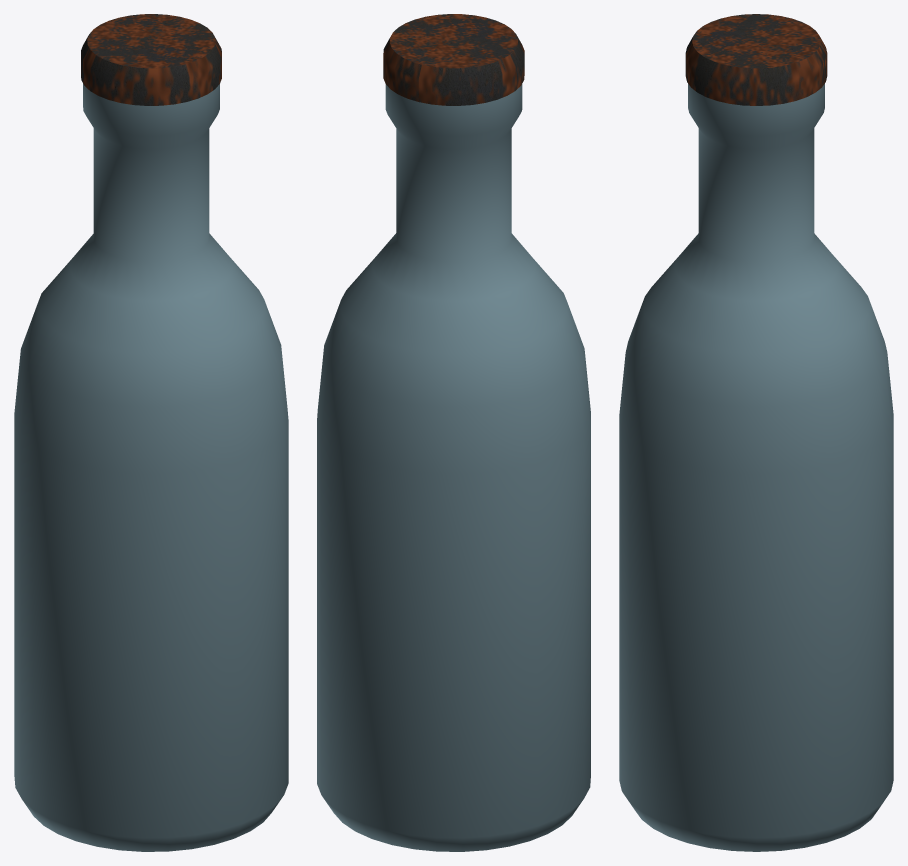
The model's file is SM_Bottle_e8b18d6cf8.fbx.
3 renders of one model, left to right at view 1: azimuth 30°, elevation 25°; view 2: azimuth 150°, elevation 25°; view 3: azimuth 270°, elevation 25°, orthographic.
Parts seen in each view (by area): view 1: SM_Bottle_e8b18d6cf8; view 2: SM_Bottle_e8b18d6cf8; view 3: SM_Bottle_e8b18d6cf8.
Part boxes in pixels (box(x1,y1,x2,y2)): SM_Bottle_e8b18d6cf8: box(14, 14, 288, 851); SM_Bottle_e8b18d6cf8: box(317, 14, 590, 851); SM_Bottle_e8b18d6cf8: box(619, 14, 893, 851).
Size of what is drawn, in the model's own units: 12.8 by 12.8 by 39.4.
2 materials, 1 textured.
